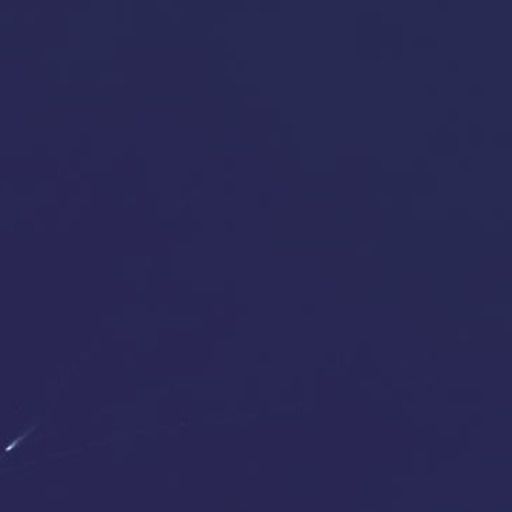ship: (1, 442, 17, 456)
